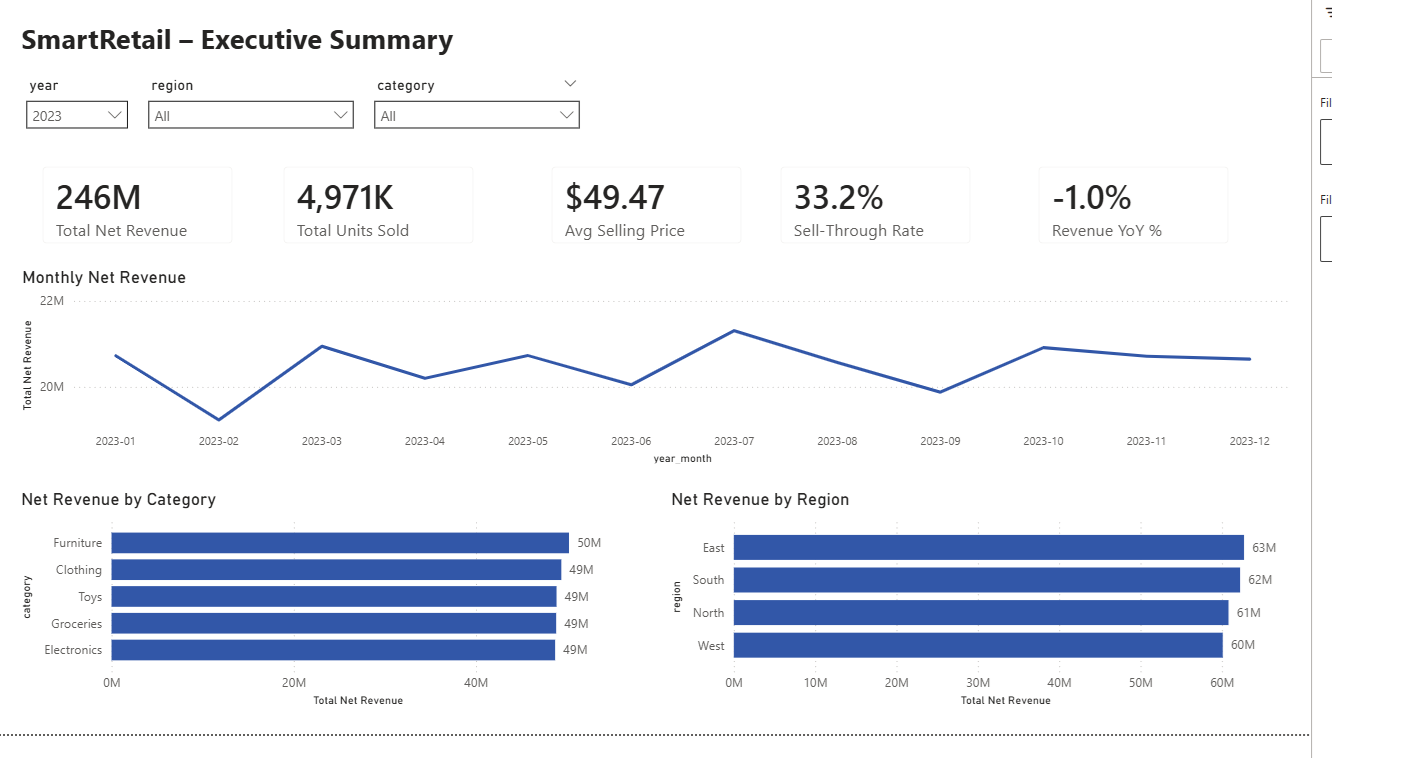

What the dashboard file says about the page in this screenshot:
{"tool":"powerbi","page":{"name":"Executive Summary","canvas":[1280,720],"ordinal":0},"visuals":[{"type":"cardVisual","fields":{"Data":["_Measures.Total Net Revenue"]},"box":[28.2,150.8,219.8,109.9],"z":0},{"type":"cardVisual","fields":{"Data":["_Measures.Total Units Sold"]},"box":[262.6,150.8,219.8,109.9],"z":1000},{"type":"cardVisual","fields":{"Data":["_Measures.Avg Selling Price"]},"box":[523.3,150.8,219.8,109.9],"z":2000},{"type":"cardVisual","fields":{"Data":["_Measures.Sell-Through Rate"]},"box":[747,150.8,219.8,109.9],"z":3000},{"type":"cardVisual","fields":{"Data":["_Measures.Revenue YoY %"]},"box":[997.9,150.8,219.8,109.9],"z":4000},{"type":"slicer","fields":{"Values":["dim_date.year"]},"box":[19.5,75.9,118.7,74.9],"z":5000},{"type":"textbox","box":[10,347.5,182,150],"z":6000},{"type":"textbox","box":[19.5,19.5,431.9,49.6],"z":7000},{"type":"lineChart","title":"Monthly Net Revenue","fields":{"Category":["dim_date.year_month"],"Y":["_Measures.Total Net Revenue"]},"box":[20.4,265.5,1245,196.5],"z":8000},{"type":"clusteredBarChart","title":"Net Revenue by Category","fields":{"Y":["_Measures.Total Net Revenue"],"Category":["fact_store_product_daily.category"]},"box":[19.5,481.5,590.4,215.9],"z":9000},{"type":"slicer","fields":{"Values":["fact_store_product_daily.region"]},"box":[138.1,75.9,219.8,67.1],"z":10000},{"type":"slicer","fields":{"Values":["fact_store_product_daily.category"]},"box":[357.9,75.9,219.8,67.1],"z":11000},{"type":"clusteredBarChart","title":"Net Revenue by Region","fields":{"Category":["fact_store_product_daily.region"],"Y":["_Measures.Total Net Revenue"]},"box":[652.6,481.5,612.8,215.9],"z":12000}]}

Visuals, with their boxes on the page's 1280x720 design canvas (x1, y1, x2, y2). These are canvas units, not pixel positions in the 1407x763 screenshot, which may show the page scaled, cropped or inside an application window:
cardVisual - _Measures.Total Net Revenue: x1=28, y1=151, x2=248, y2=261
cardVisual - _Measures.Total Units Sold: x1=263, y1=151, x2=482, y2=261
cardVisual - _Measures.Avg Selling Price: x1=523, y1=151, x2=743, y2=261
cardVisual - _Measures.Sell-Through Rate: x1=747, y1=151, x2=967, y2=261
cardVisual - _Measures.Revenue YoY %: x1=998, y1=151, x2=1218, y2=261
slicer - dim_date.year: x1=20, y1=76, x2=138, y2=151
textbox: x1=10, y1=348, x2=192, y2=498
textbox: x1=20, y1=20, x2=451, y2=69
"Monthly Net Revenue" lineChart: x1=20, y1=266, x2=1265, y2=462
"Net Revenue by Category" clusteredBarChart: x1=20, y1=482, x2=610, y2=697
slicer - fact_store_product_daily.region: x1=138, y1=76, x2=358, y2=143
slicer - fact_store_product_daily.category: x1=358, y1=76, x2=578, y2=143
"Net Revenue by Region" clusteredBarChart: x1=653, y1=482, x2=1265, y2=697
